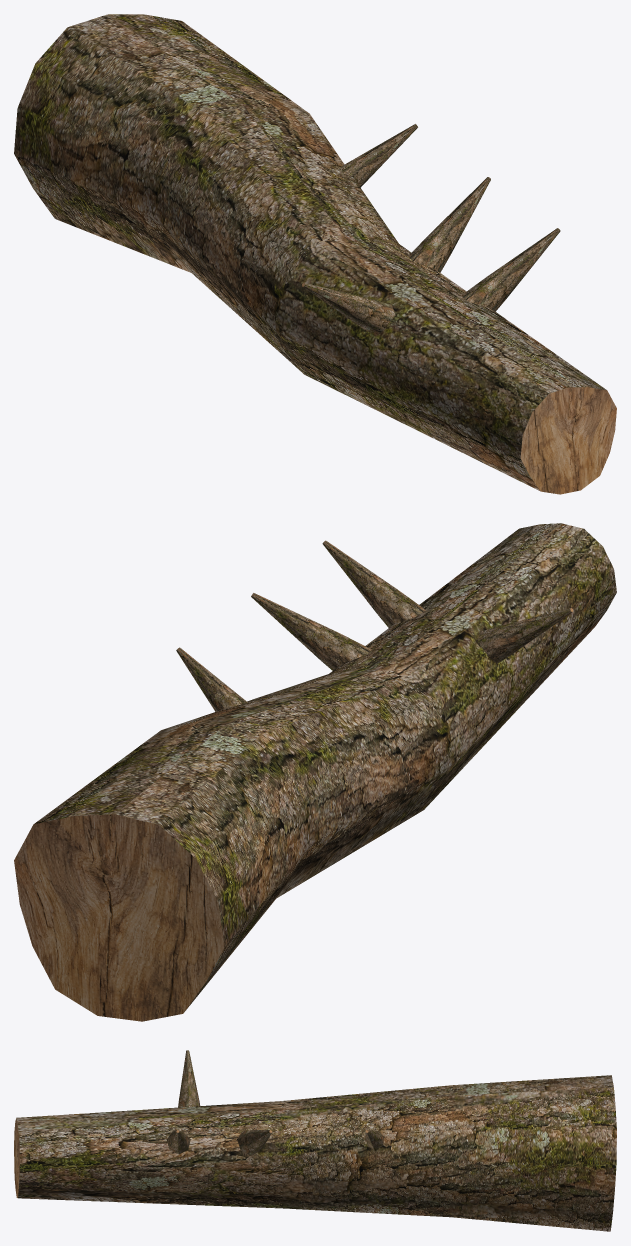
Rendered from log-1.obj.
3 views of the same model, one above another, from view 1: azimuth 30°, elevation 25°; view 2: azimuth 150°, elevation 25°; view 3: azimuth 270°, elevation 25° (orthographic). The views are drawn at different scales.
Size of the model in its own units: 1.82 by 1.42 by 5.69.
1 material, 1 textured.
